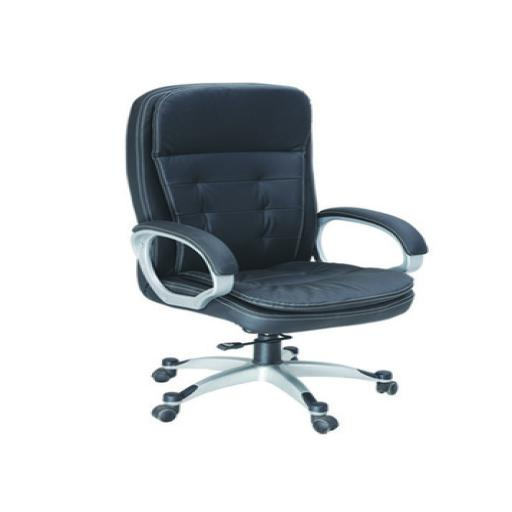chair: (75, 47, 439, 449)
